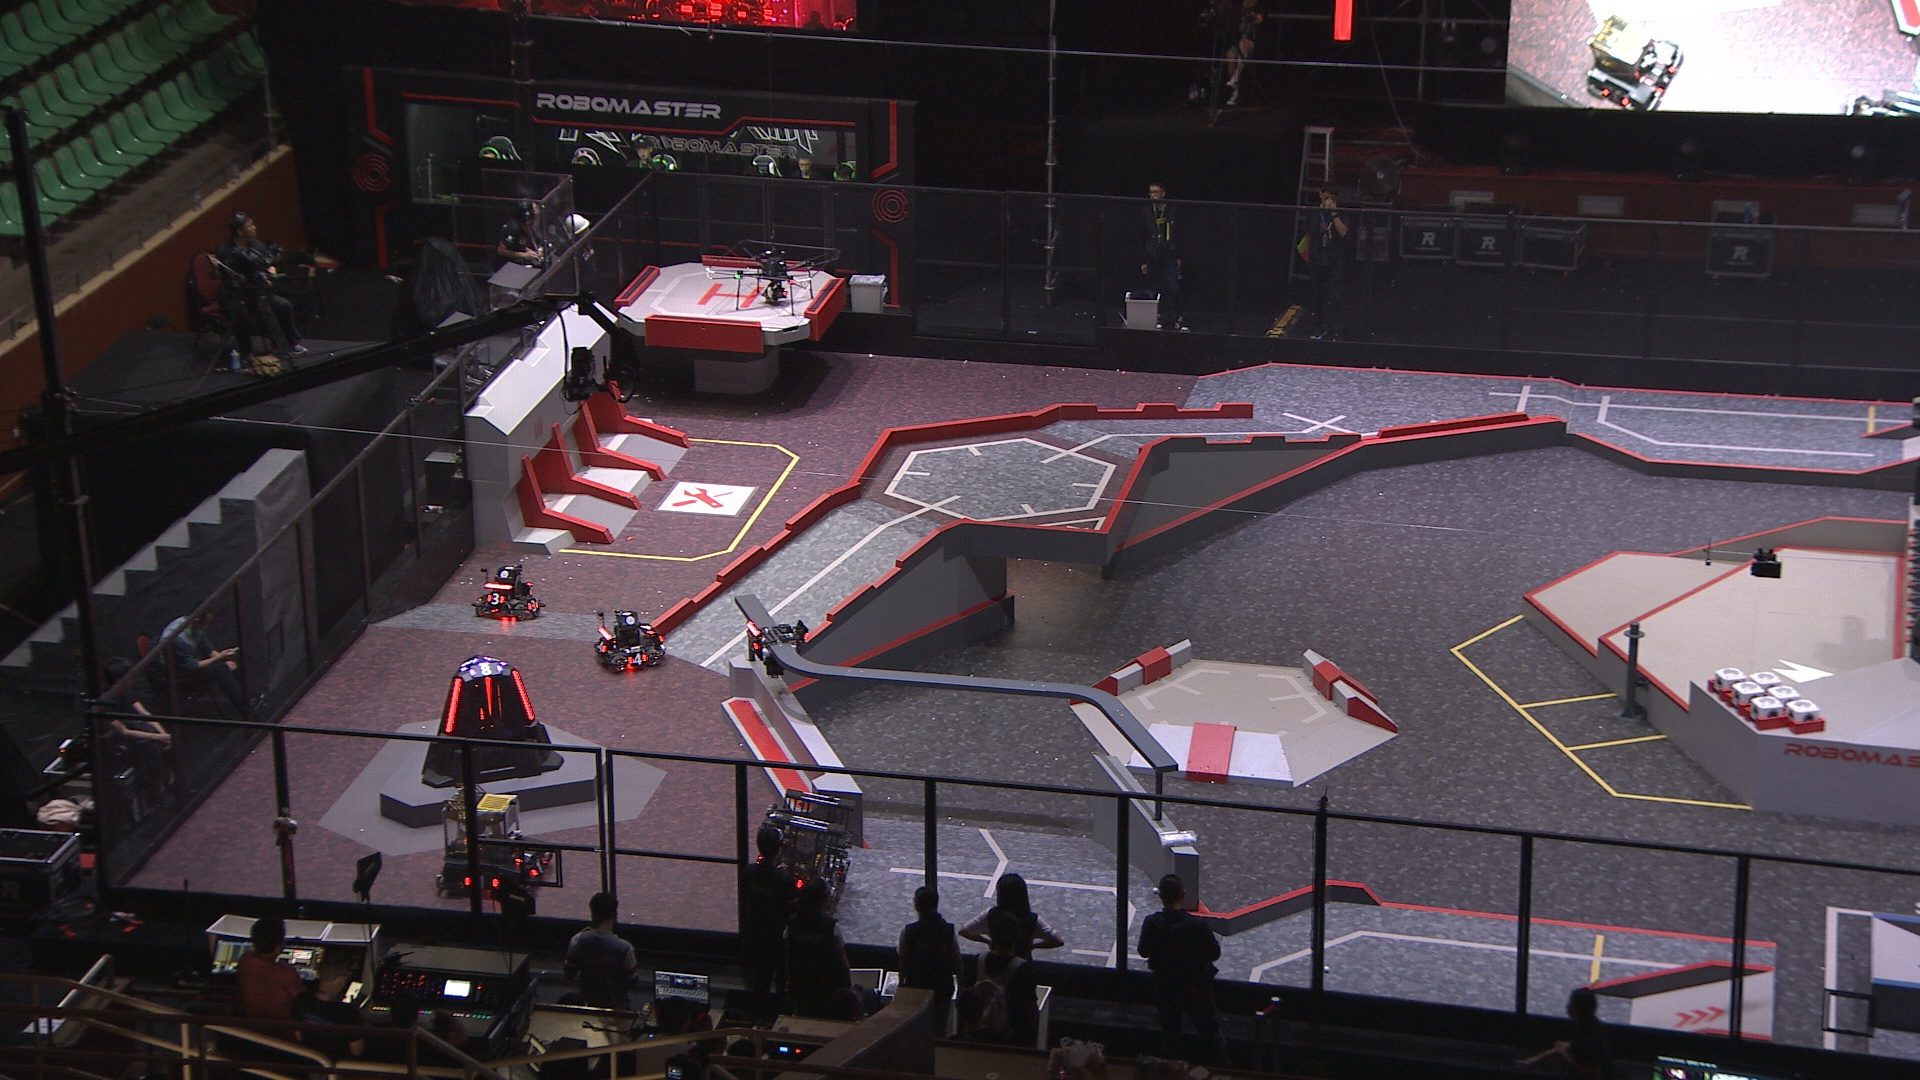armor: (508, 669, 534, 723), (442, 678, 462, 733), (462, 874, 498, 891), (481, 675, 495, 719), (742, 626, 760, 651), (529, 856, 547, 878), (514, 847, 535, 865), (484, 591, 508, 607), (624, 651, 647, 665), (638, 621, 654, 637), (595, 638, 608, 655), (527, 597, 541, 613)
base: (419, 651, 566, 787)
car: (433, 781, 556, 902), (746, 785, 856, 910), (589, 607, 666, 678), (469, 564, 549, 626)
ignore: (465, 659, 501, 678)
watcher: (742, 617, 811, 680)
